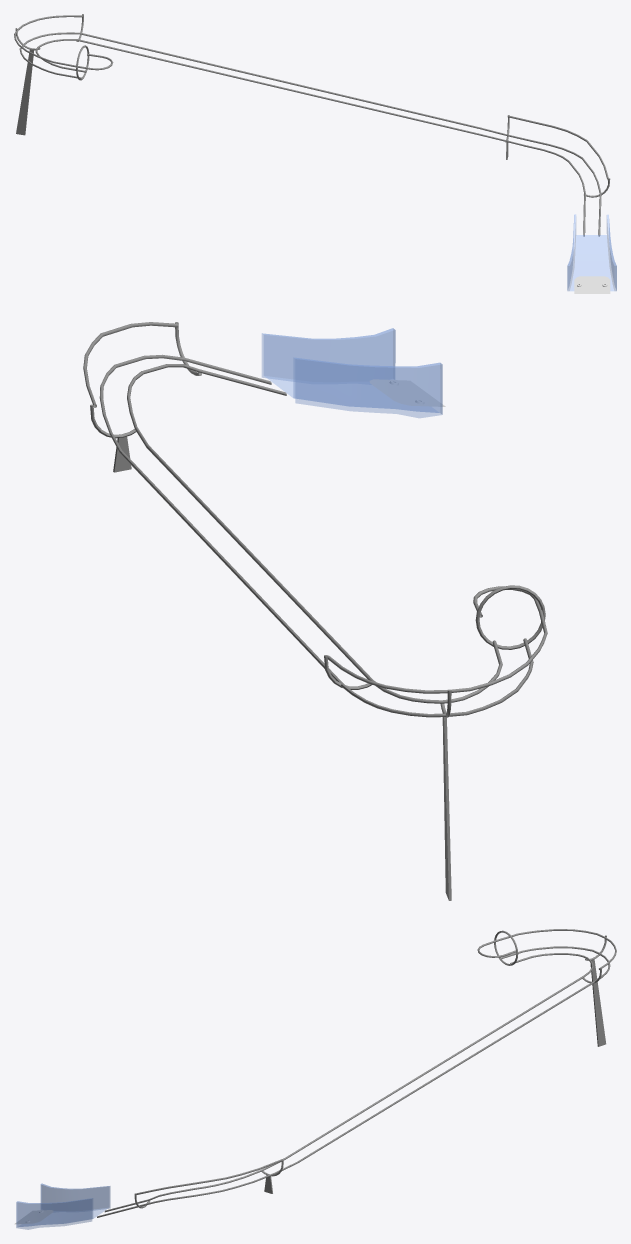
The model's file is Kantele Hero Ramp.FBX.
The picture shows the model from 3 angles, top to bottom: view 1: azimuth 30°, elevation 25°; view 2: azimuth 150°, elevation 25°; view 3: azimuth 270°, elevation 25°; orthographic projection. The views are drawn at different scales.
Visible parts, largest first — view 1: Ramp, Entrance, Plate007; view 2: Entrance, Ramp, Plate007; view 3: Ramp, Entrance.
Boxes of the visible parts, x1,y1,x2,y2 form: Ramp: (14, 14, 610, 236); Entrance: (567, 214, 616, 290); Plate007: (574, 276, 610, 293); Entrance: (262, 328, 442, 417); Ramp: (83, 322, 547, 900); Plate007: (370, 379, 445, 406); Ramp: (97, 929, 616, 1217); Entrance: (16, 1183, 110, 1229).
Size of the model in its own units: 0.4659 by 0.1639 by 0.6082.
